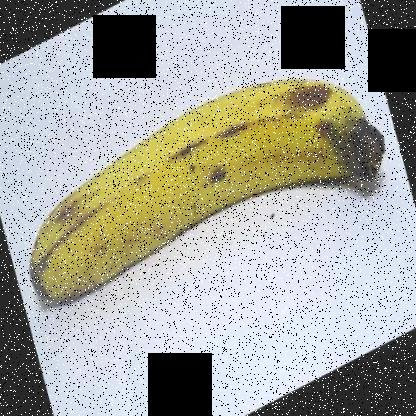ripe: (16, 68, 396, 323)
